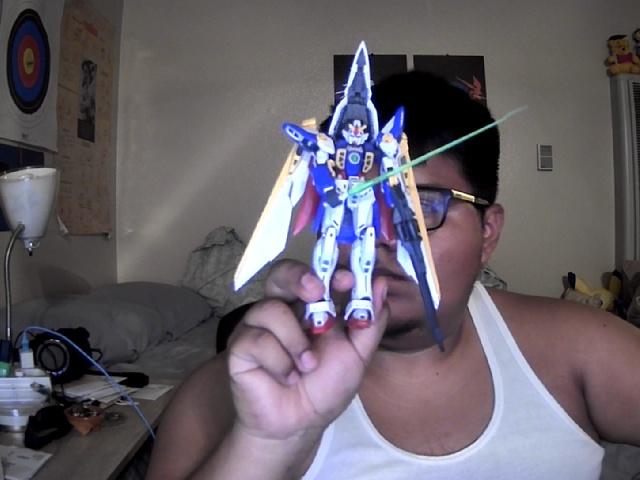Wing-01: (233, 39, 521, 355)
